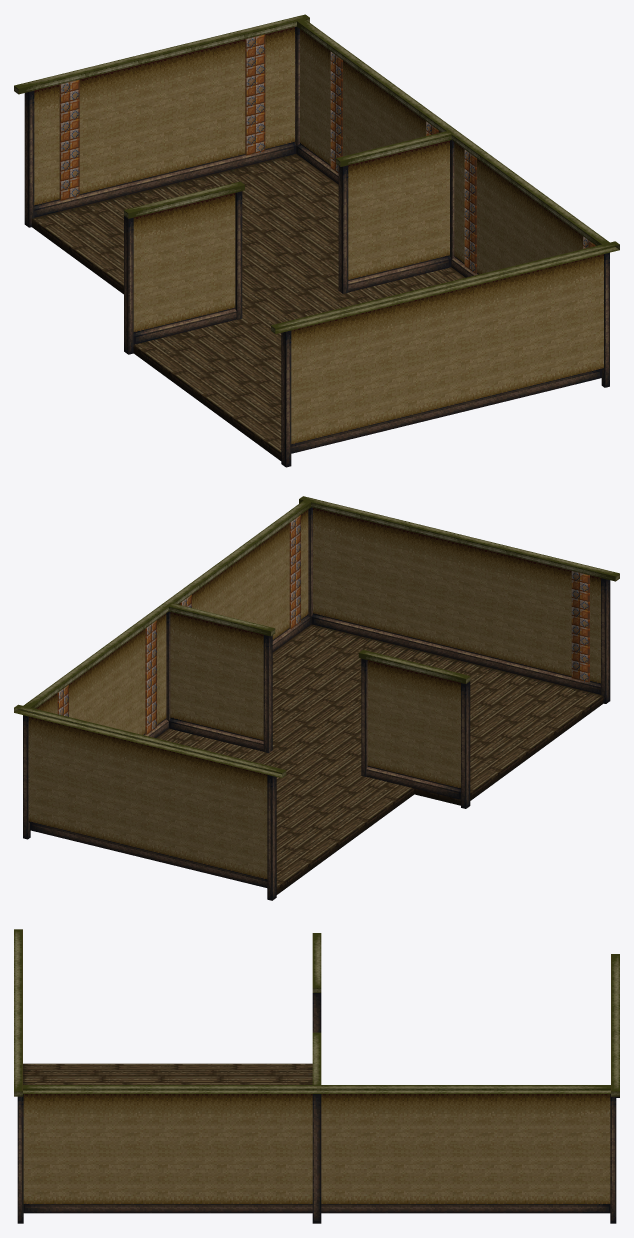
The model's file is EnvBdgMD_Sea_A_Indoor_Scholar_A.FBX.
3 renders of one model, top to bottom at view 1: azimuth 30°, elevation 25°; view 2: azimuth 150°, elevation 25°; view 3: azimuth 270°, elevation 25°, orthographic. The views are drawn at different scales.
Visible parts, largest first — view 1: EnvBdgMD_Sea_A_Indoor_Scholar_A; view 2: EnvBdgMD_Sea_A_Indoor_Scholar_A; view 3: EnvBdgMD_Sea_A_Indoor_Scholar_A.
Boxes of the visible parts, x1,y1,x2,y2 form: EnvBdgMD_Sea_A_Indoor_Scholar_A: (14,14,619,467); EnvBdgMD_Sea_A_Indoor_Scholar_A: (14,496,619,900); EnvBdgMD_Sea_A_Indoor_Scholar_A: (14,929,619,1223).
Size of the model in its own units: 1300 by 510 by 2055.
Materials: 1 (1 with a texture image).
